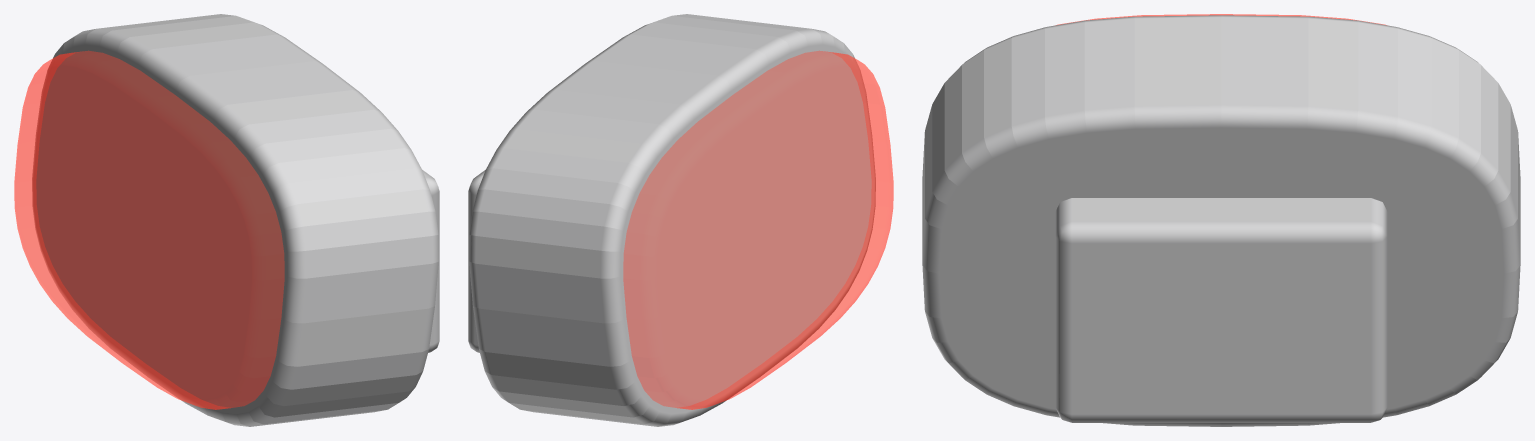
File: bike_step_through__tail_light.glb
The picture shows the model from 3 angles, left to right: view 1: azimuth 30°, elevation 25°; view 2: azimuth 150°, elevation 25°; view 3: azimuth 270°, elevation 25°; orthographic projection. The views are drawn at different scales.
Parts seen in each view (by area): view 1: electrical__tail_light, electrical__tail_light__lens; view 2: electrical__tail_light, electrical__tail_light__lens; view 3: electrical__tail_light, electrical__tail_light__lens.
Part boxes in pixels (x1,y1,x2,y2): electrical__tail_light: [32, 14, 439, 426]; electrical__tail_light__lens: [14, 51, 284, 409]; electrical__tail_light: [468, 14, 875, 426]; electrical__tail_light__lens: [623, 51, 893, 409]; electrical__tail_light: [922, 15, 1520, 426]; electrical__tail_light__lens: [1056, 14, 1386, 25].
Bounding box in the file's own units: 6.05 × 7.11 × 10.8.
